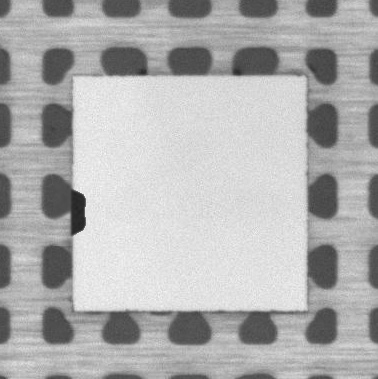DIE_BROKEN: (68, 184, 88, 243)
